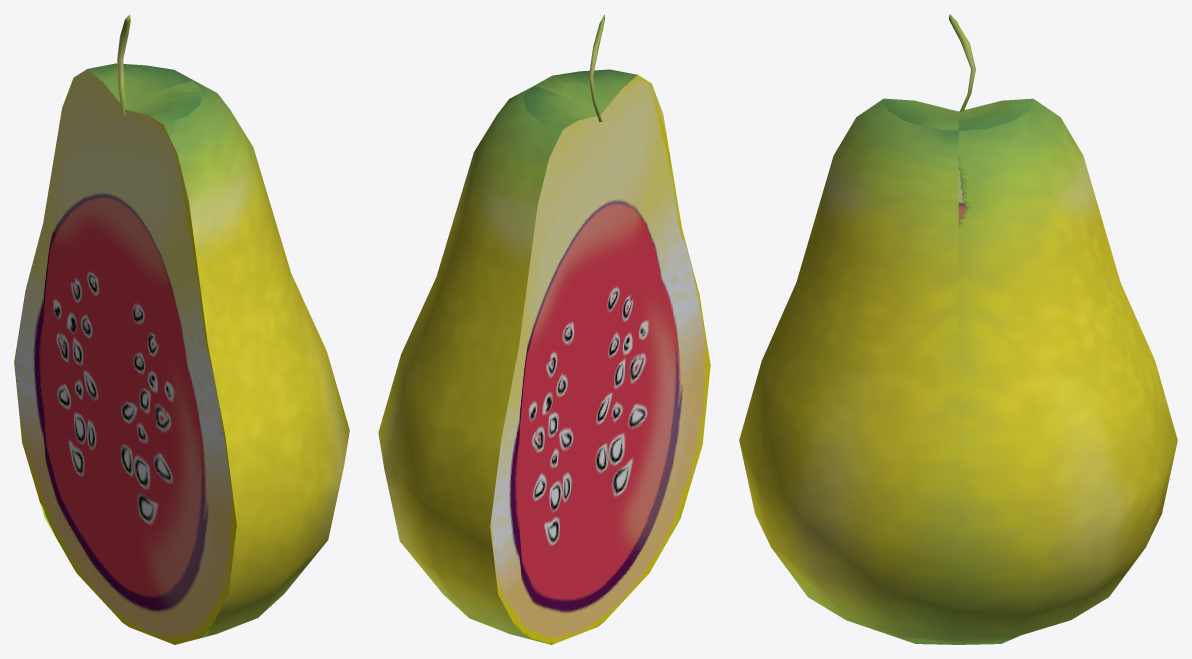
File: PearSEdit.FBX
The picture shows the model from 3 angles, left to right: view 1: azimuth 30°, elevation 25°; view 2: azimuth 150°, elevation 25°; view 3: azimuth 270°, elevation 25°; orthographic projection.
Parts seen in each view (by area): view 1: pearS; view 2: pearS; view 3: pearS.
Part boxes in pixels (<box>): pearS: <box>14,14,349,644</box>; pearS: <box>378,14,710,644</box>; pearS: <box>739,14,1177,644</box>.
Bounding box in the file's own units: 8.21 × 24.09 × 15.81.
